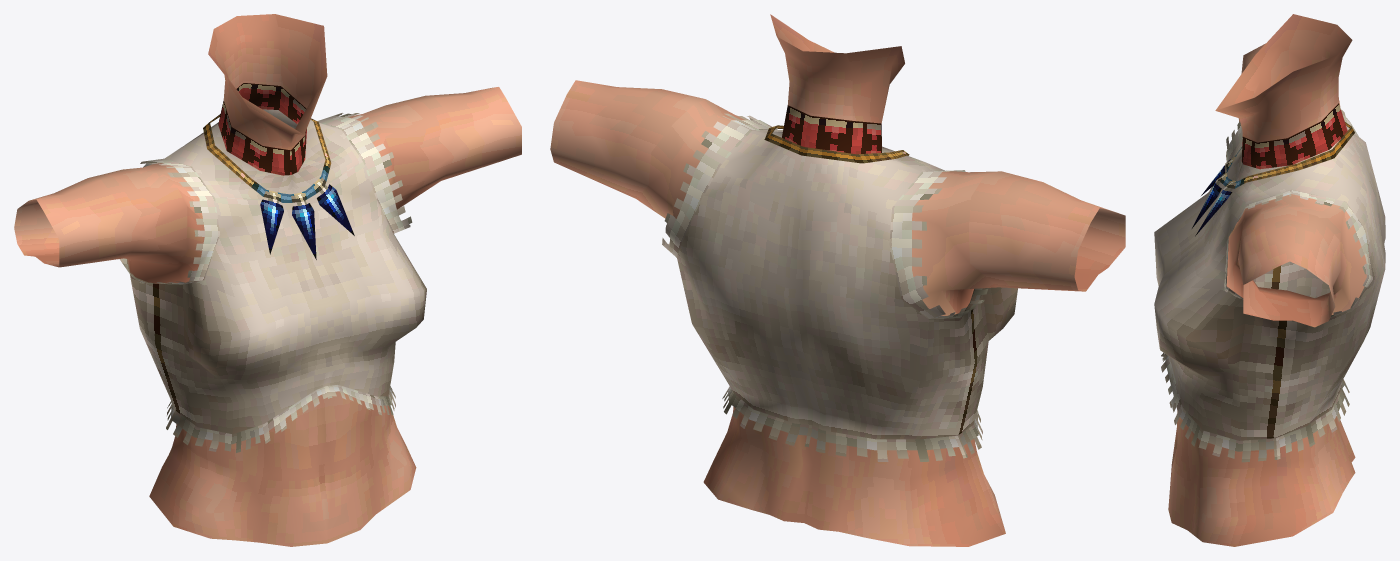
File: f_plate255.obj
3 views of the same model, side by side, from view 1: azimuth 30°, elevation 25°; view 2: azimuth 150°, elevation 25°; view 3: azimuth 270°, elevation 25° (orthographic). The views are drawn at different scales.
Visible parts, largest first — view 1: mesh00; view 2: mesh00; view 3: mesh00.
Boxes of the visible parts, x1,y1,x2,y2 form: mesh00: (14, 14, 521, 546); mesh00: (550, 14, 1125, 546); mesh00: (1154, 14, 1385, 546).
Size of the model in its own units: 61.81 by 58.89 by 26.3.
Materials: 1 (1 with a texture image).
